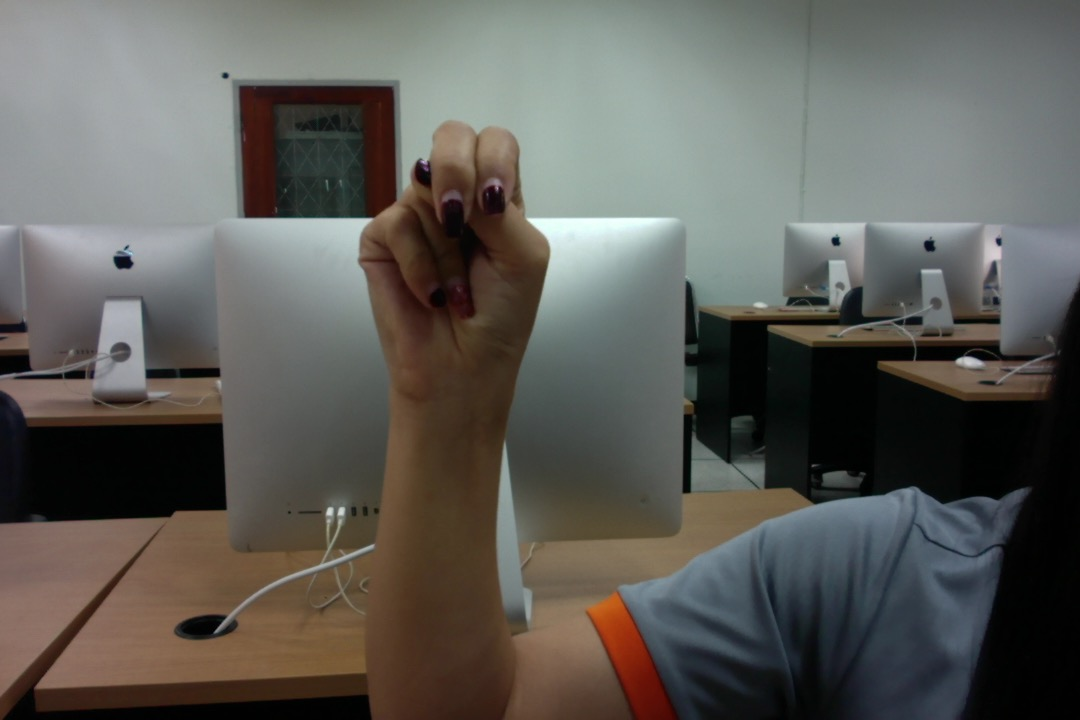nor: (353, 108, 561, 445)
